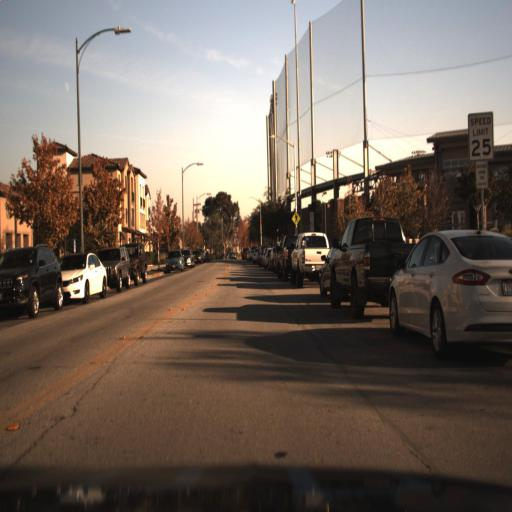car: (388, 227, 512, 352), (327, 211, 421, 321), (0, 239, 66, 325), (287, 228, 333, 291), (61, 250, 106, 303), (99, 246, 131, 295), (274, 230, 295, 284), (130, 241, 149, 283), (161, 247, 186, 274), (182, 247, 193, 272)
